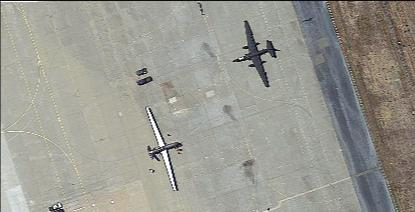P3: (145, 105, 178, 188)
Tu160: (232, 20, 275, 85)
